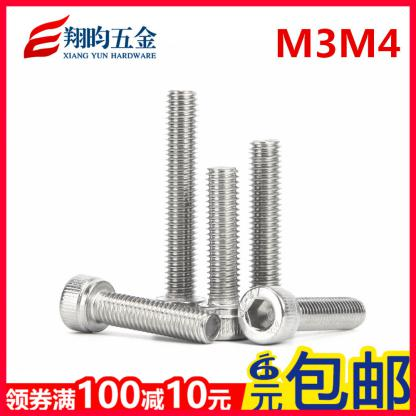FOD: (147, 87, 209, 341), (61, 272, 221, 344), (195, 165, 250, 341), (235, 283, 368, 345)
